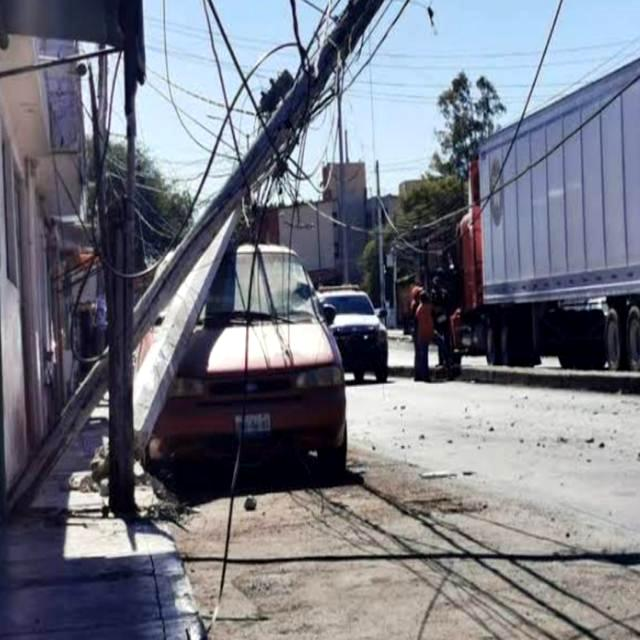Broken Pole: (129, 198, 247, 457)
